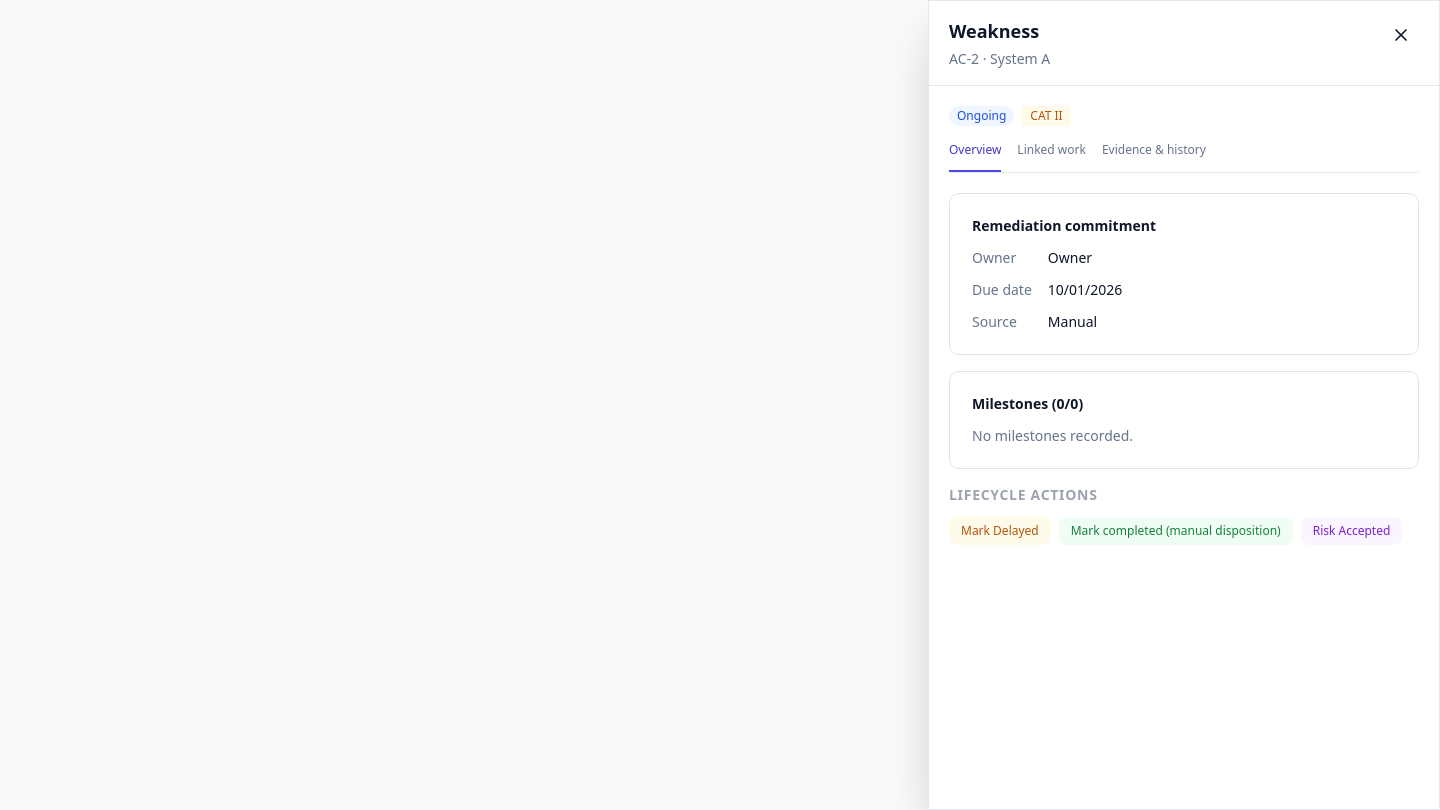
it: #1017 POA&M domain mutation permissions › retains legacy ticket metadata without offering unsafe push or pull controls
The width and height of the screenshot is (1440, 810).
Click the button "Evidence & history" at (1154, 157), box [1102,142,1206,172]
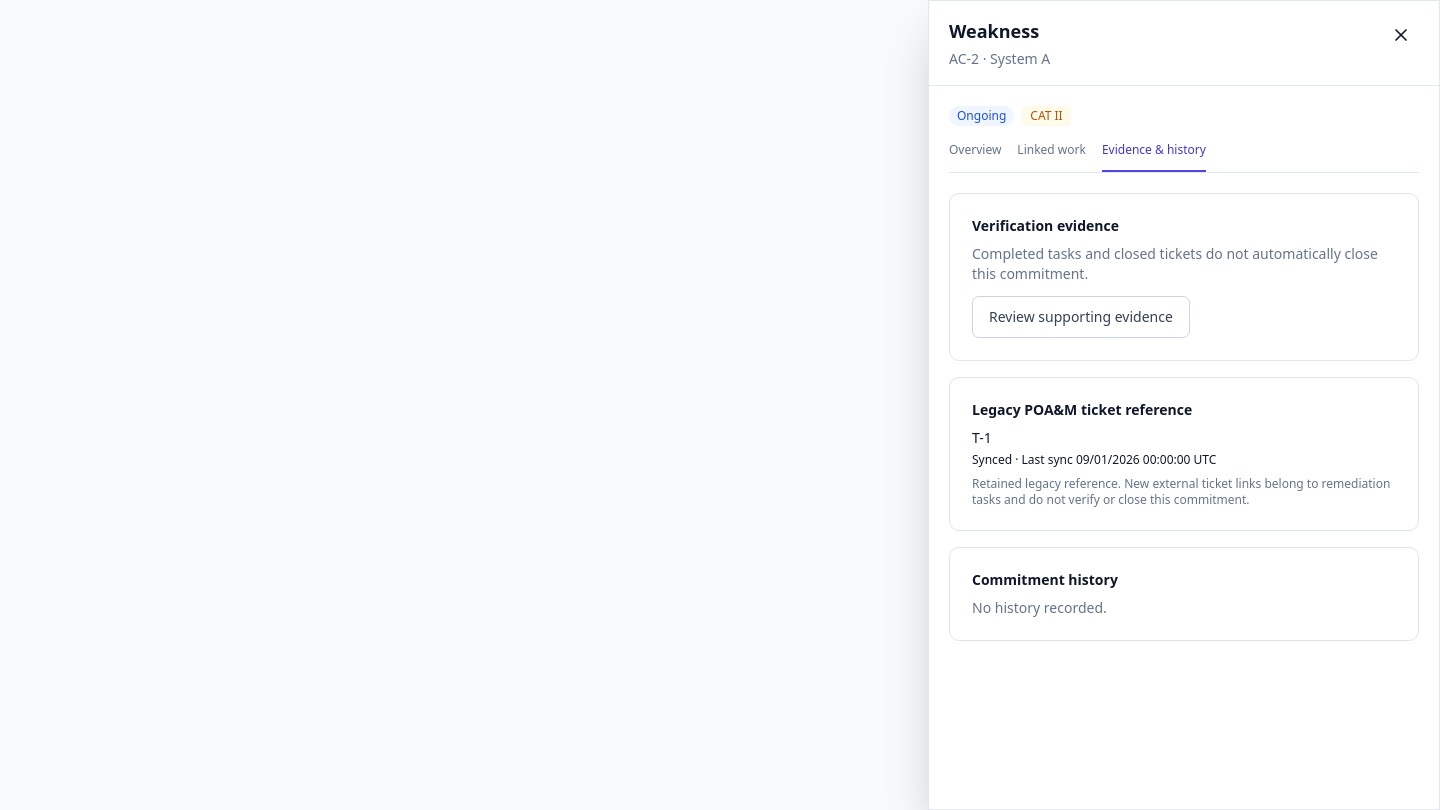
Now the text "T-1" is shown, box [972,428,992,447]
